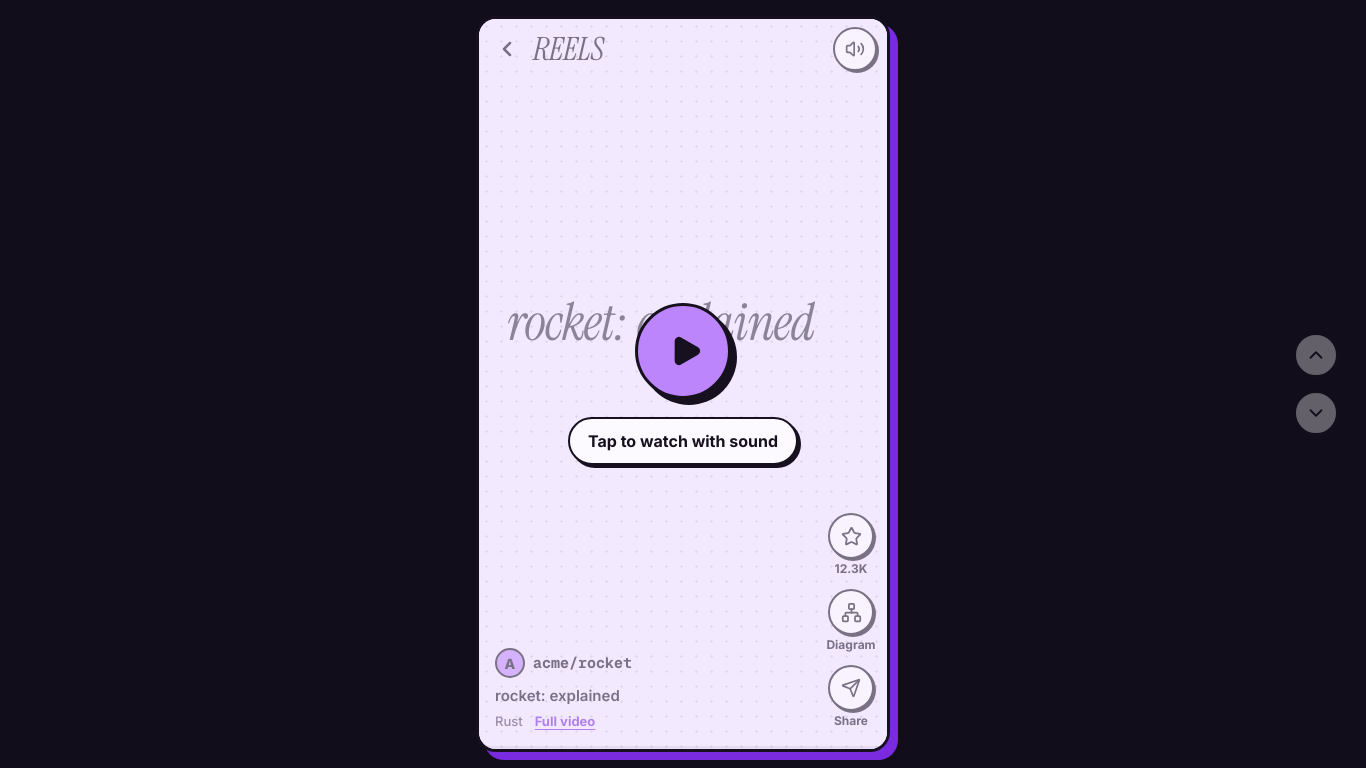
Test: ReelsFeed › unlocks the sound on the first tap, then taps pause
The width and height of the screenshot is (1366, 768).
Step 1. Click the button "Tap to watch with sound" → point(503, 384), box [479,19,887,749]
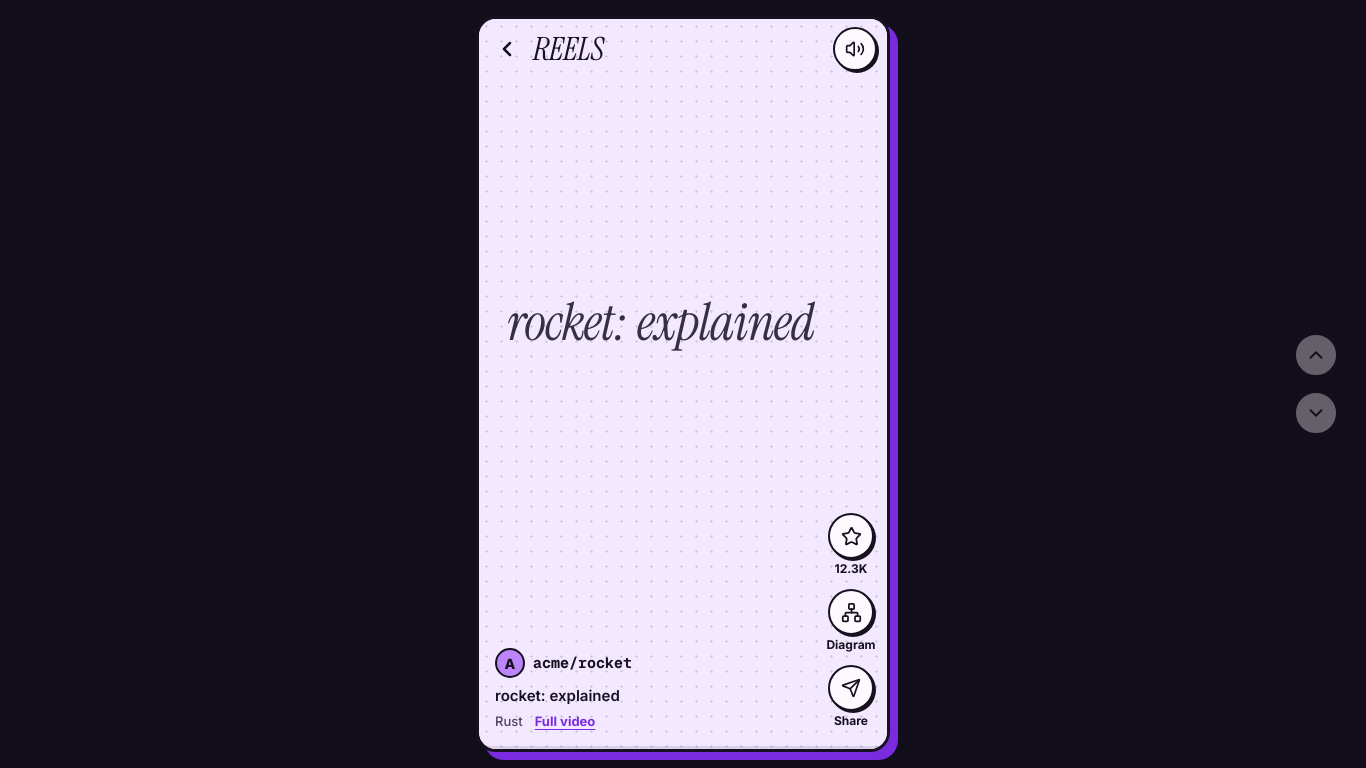
Result: the button "Tap to watch" is gone
Step 2. Click the button named "Pause acme/rocket" → point(683, 384), box [479,19,887,749]
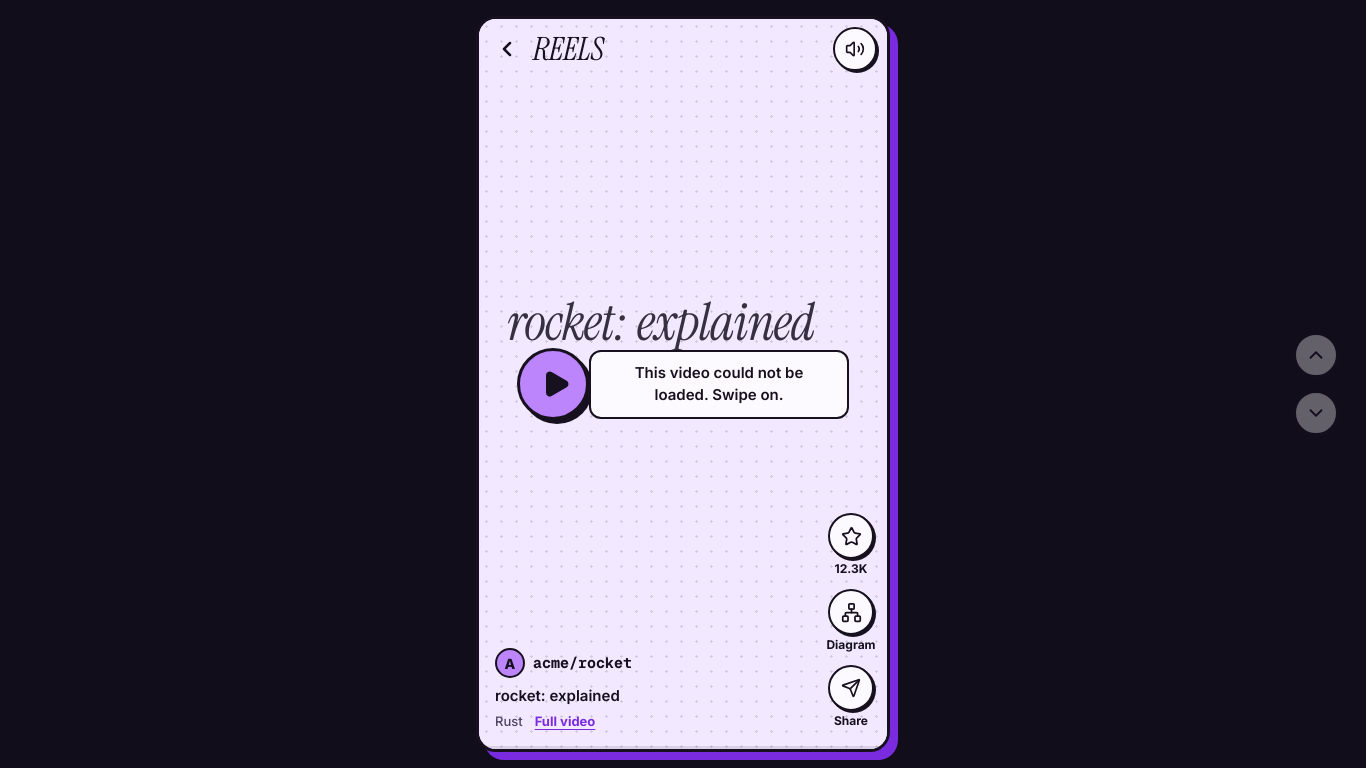
Result: the button named "Play acme/rocket" is shown at [479,19,887,749]
